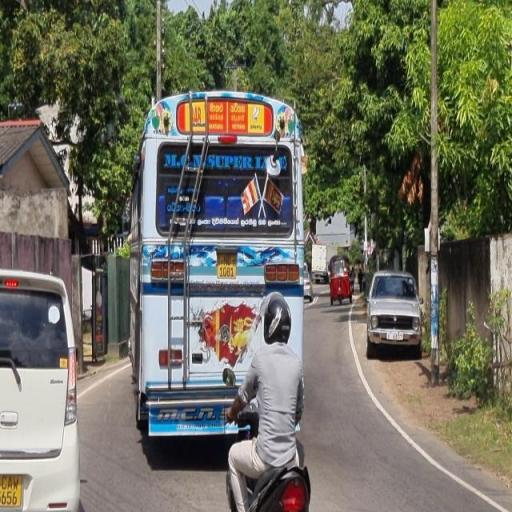double_white_line: (345, 307, 507, 511)
